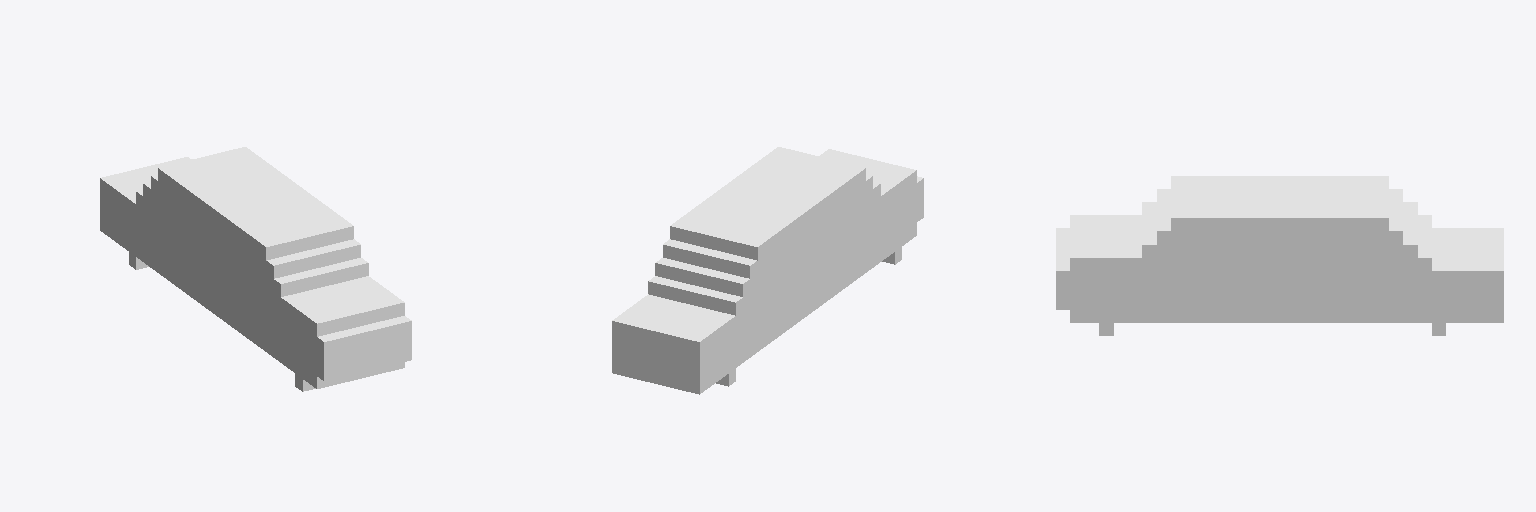
Rendered from v_car_1.obj.
The picture shows the model from 3 angles: view 1: azimuth 30°, elevation 25°; view 2: azimuth 150°, elevation 25°; view 3: azimuth 270°, elevation 25°; orthographic projection.
Visible parts, largest first — view 1: object 1; view 2: object 1; view 3: object 1.
Boxes of the visible parts, x1,y1,x2,y2 form: object 1: [100, 147, 411, 391]; object 1: [612, 147, 923, 394]; object 1: [1056, 176, 1503, 335].
Bounding box in the file's own units: 0.7 × 0.9 × 3.1.